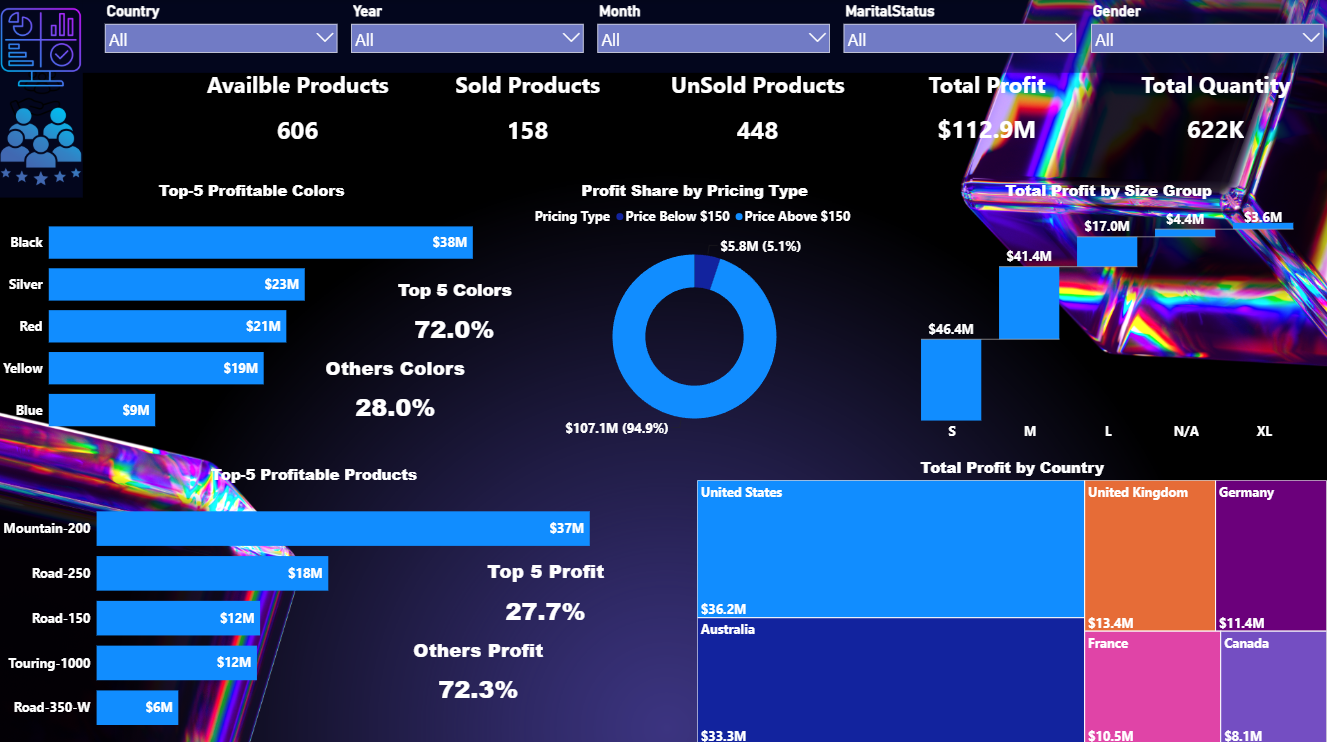

This screenshot's page, from the dashboard's own definition file:
{"tool":"powerbi","page":{"name":"Product Analysis","canvas":[1920,1080],"ordinal":2},"visuals":[{"type":"shape","box":[0,0,120.8,286.7],"z":0},{"type":"shape","box":[120.4,0,1799.6,106.4],"z":1000},{"type":"barChart","title":"Top-5 Profitable Products","fields":{"Category":["DimProduct.ProductName"],"Y":["0.Total Profit"]},"box":[0,670.8,908.8,409.3],"z":2000},{"type":"barChart","title":"Top-5 Profitable Colors","fields":{"Category":["DimProduct.Color"],"Y":["0.Total Profit"]},"box":[0,261.5,728.5,385.9],"z":3000},{"type":"cardVisual","title":"Availble Products","fields":{"Data":["0.Available Products"]},"box":[265.1,101,331.8,129.8],"z":4000},{"type":"cardVisual","title":"Sold Products","fields":{"Data":["0.Sold Products"]},"box":[596.8,101,331.8,129.8],"z":5000},{"type":"cardVisual","title":"UnSold Products","fields":{"Data":["0.UnSold Products"]},"box":[928.6,101,331.8,129.8],"z":6000},{"type":"cardVisual","title":"Total Profit","fields":{"Data":["0.Total Profit"]},"box":[1260.4,101,330,128],"z":7000},{"type":"cardVisual","title":"Total Quantity","fields":{"Data":["0.Total Quantity"]},"box":[1590.4,101,330,128],"z":8000},{"type":"donutChart","title":"Profit Share by Pricing Type","fields":{"Category":["DimProduct.Pricing Type"],"Y":["0.Profit Price Below 150","0.Profit Price Above 150"]},"box":[728.5,261.5,550,385.9],"z":9000},{"type":"cardVisual","title":"Others Profit","fields":{"Data":["0.% Others Profit Share"]},"box":[578.8,919.6,225.4,110],"z":10000},{"type":"cardVisual","title":"Top 5 Profit","fields":{"Data":["0.% Top 5 Profit Share"]},"box":[669,806,239.8,113.6],"z":11000},{"type":"cardVisual","title":"Top 5 Colors","fields":{"Data":["0.% Top 3 Colors Profit Share"]},"box":[551.8,402.1,211,110],"z":12000},{"type":"cardVisual","title":"Others Colors","fields":{"Data":["0.% Others Colors Profit Share"]},"box":[452.6,512.1,238,111.8],"z":13000},{"type":"waterfallChart","fields":{"Category":["DimProduct.Size Group"],"Y":["0.Total Profit"]},"box":[1280.2,261.5,640.1,385.9],"z":14000},{"type":"treemap","fields":{"Group":["DimGeography.Country"],"Values":["0.Total Profit"]},"box":[1002.6,660,917.8,420.1],"z":15000},{"type":"image","box":[0,101.2,103.8,75],"z":16000},{"type":"slicer","title":"Country","fields":{"Values":["DimGeography.Country"]},"box":[143.1,0.7,355.2,90.2],"z":17000},{"type":"slicer","title":"Country","fields":{"Values":["DimDate.Date.Variation.Date Hierarchy.Year"]},"box":[498.4,0.7,355.2,90.2],"z":18000},{"type":"slicer","title":"Country","fields":{"Values":["DimDate.Date.Variation.Date Hierarchy.Month"]},"box":[853.6,0.7,355.2,90.2],"z":19000},{"type":"slicer","title":"Country","fields":{"Values":["DimCustomer.MaritalStatus"]},"box":[1208.1,0,355.2,90.2],"z":20000},{"type":"slicer","title":"Country","fields":{"Values":["DimCustomer.Gender"]},"box":[1565.1,0,355.2,90.2],"z":21000},{"type":"image","box":[0,0,120.8,138.8],"z":22000},{"type":"image","box":[0,138.8,120.8,147.9],"z":23000}]}

Visuals, with their boxes in screenshot pixels (x1, y1, x2, y2), scaled from the page's 1920x1080 canvas onto the 1327x742 screenshot:
shape: crop(0, 0, 83, 197)
shape: crop(83, 0, 1326, 73)
"Top-5 Profitable Products" barChart: crop(0, 461, 628, 741)
"Top-5 Profitable Colors" barChart: crop(0, 180, 503, 445)
"Availble Products" cardVisual: crop(183, 69, 413, 159)
"Sold Products" cardVisual: crop(412, 69, 642, 159)
"UnSold Products" cardVisual: crop(642, 69, 871, 159)
"Total Profit" cardVisual: crop(871, 69, 1099, 157)
"Total Quantity" cardVisual: crop(1099, 69, 1326, 157)
"Profit Share by Pricing Type" donutChart: crop(503, 180, 884, 445)
"Others Profit" cardVisual: crop(400, 632, 556, 707)
"Top 5 Profit" cardVisual: crop(462, 554, 628, 632)
"Top 5 Colors" cardVisual: crop(381, 276, 527, 352)
"Others Colors" cardVisual: crop(313, 352, 477, 429)
waterfallChart - DimProduct.Size Group x 0.Total Profit: crop(885, 180, 1326, 445)
treemap - DimGeography.Country x 0.Total Profit: crop(693, 453, 1326, 741)
image: crop(0, 70, 72, 121)
"Country" slicer: crop(99, 0, 344, 62)
"Country" slicer: crop(344, 0, 590, 62)
"Country" slicer: crop(590, 0, 835, 62)
"Country" slicer: crop(835, 0, 1080, 62)
"Country" slicer: crop(1082, 0, 1326, 62)
image: crop(0, 0, 83, 95)
image: crop(0, 95, 83, 197)
